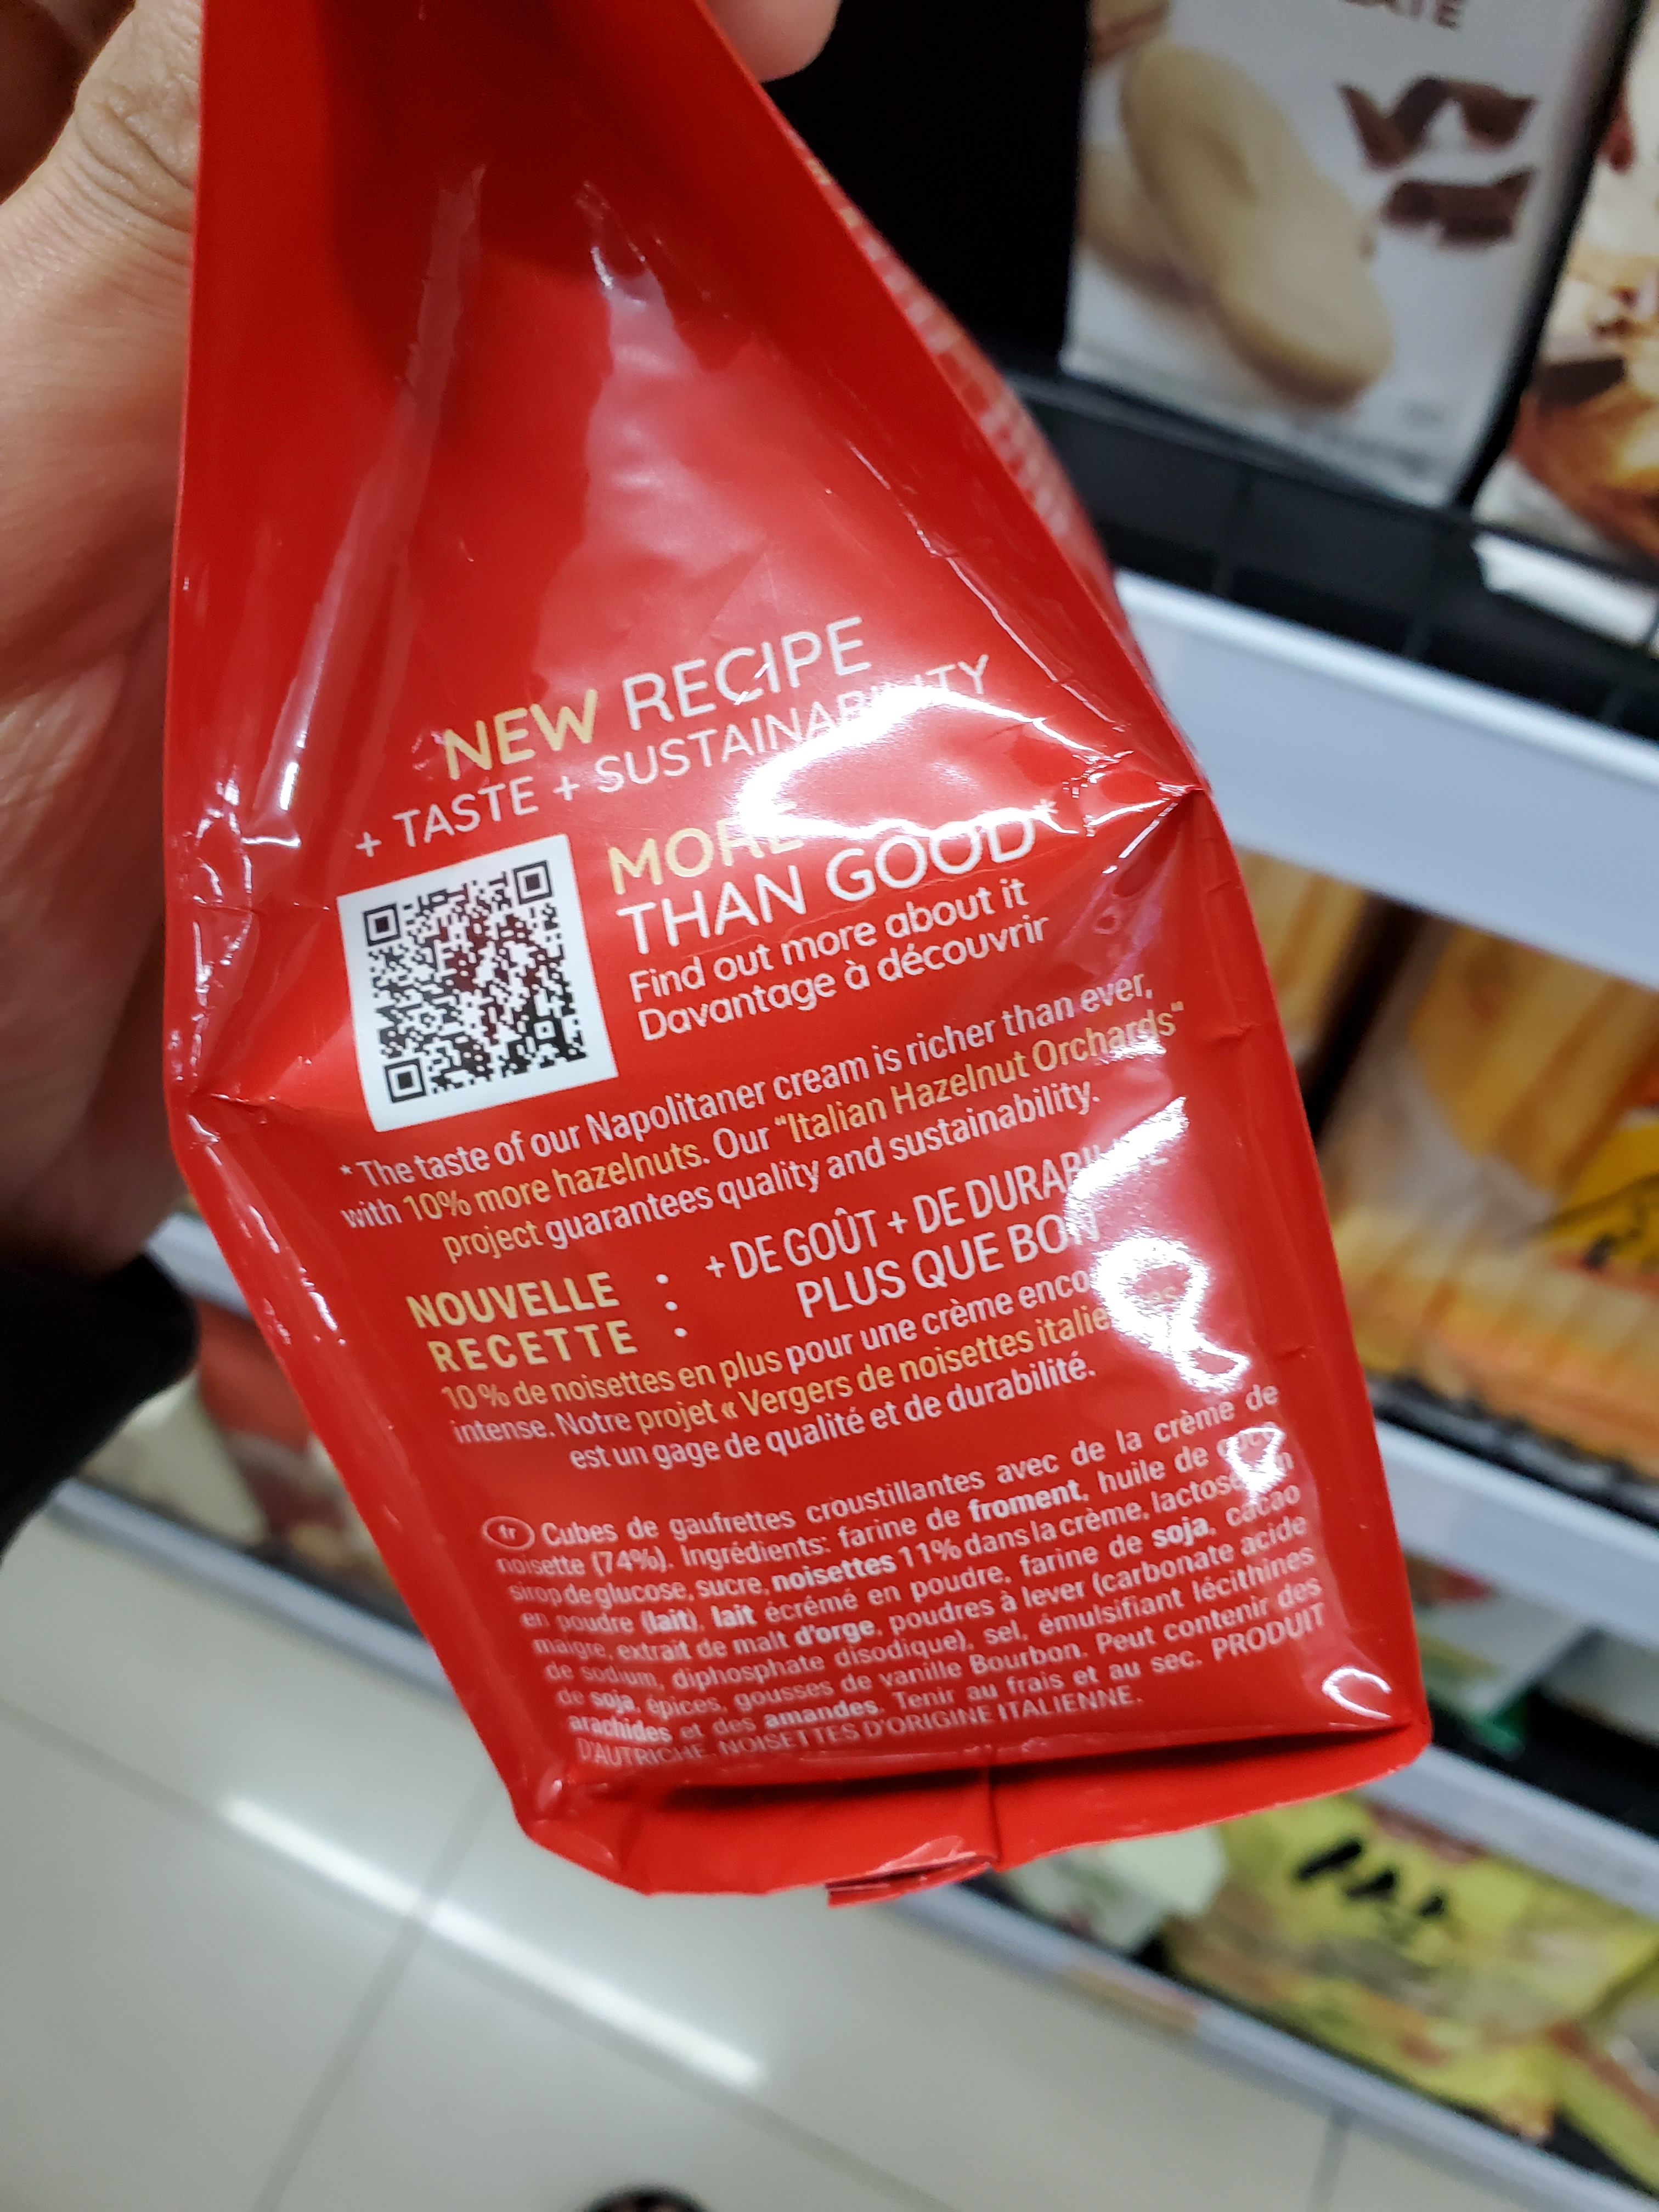qr code: (296, 843, 612, 1116)
